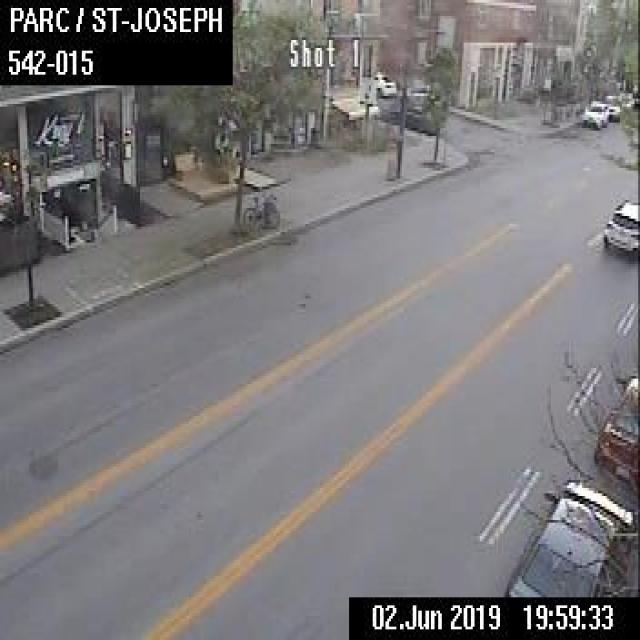vehicle: (504, 477, 631, 595), (591, 368, 638, 485), (600, 194, 638, 258), (578, 99, 607, 128), (402, 83, 434, 106), (376, 69, 395, 95), (604, 92, 621, 120)
